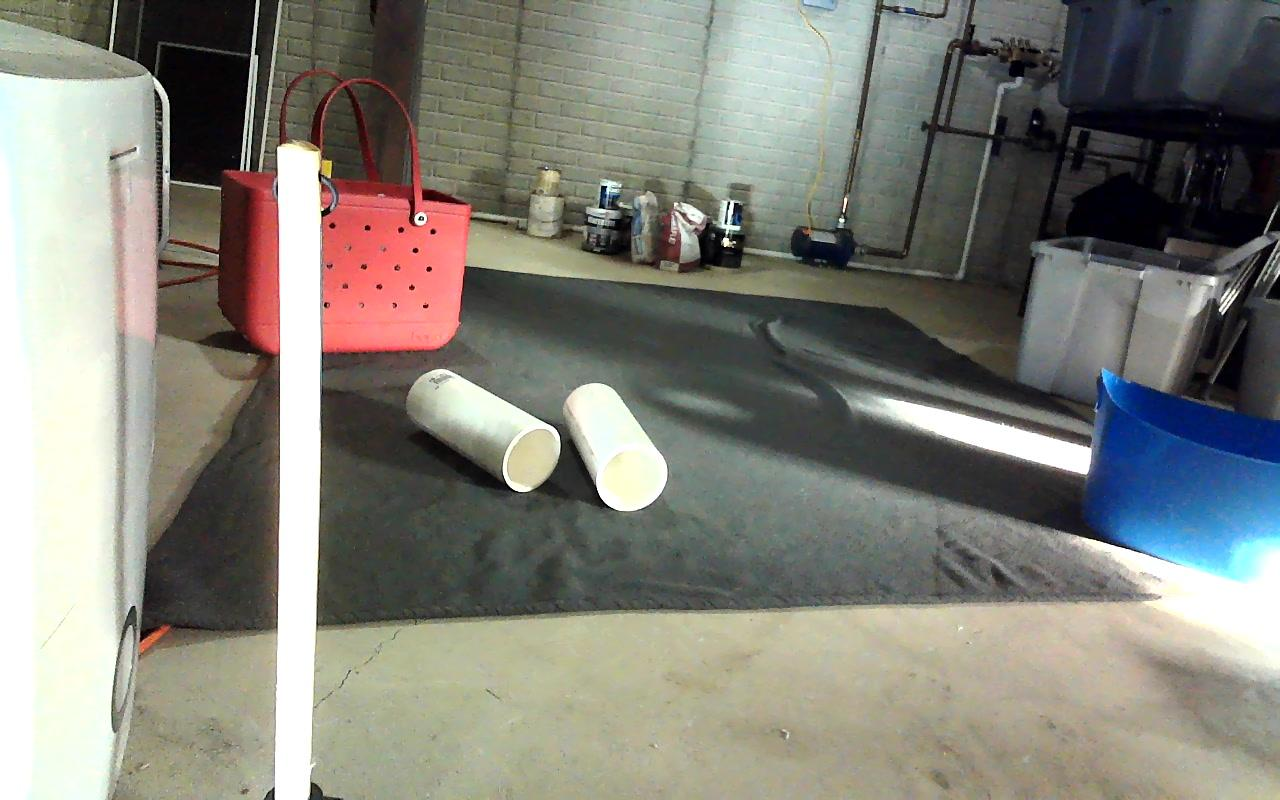coral: (406, 368, 563, 491), (564, 381, 667, 509)
